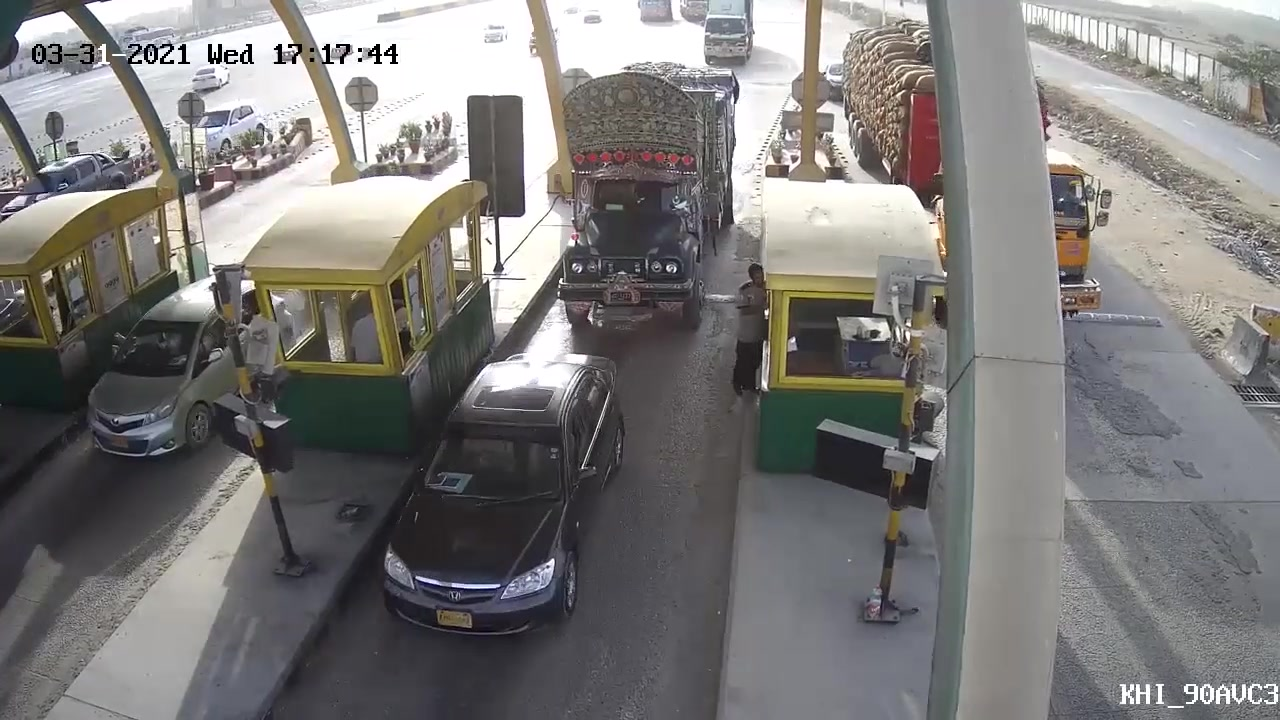F1: (369, 336, 633, 639)
F5: (549, 55, 746, 344)
